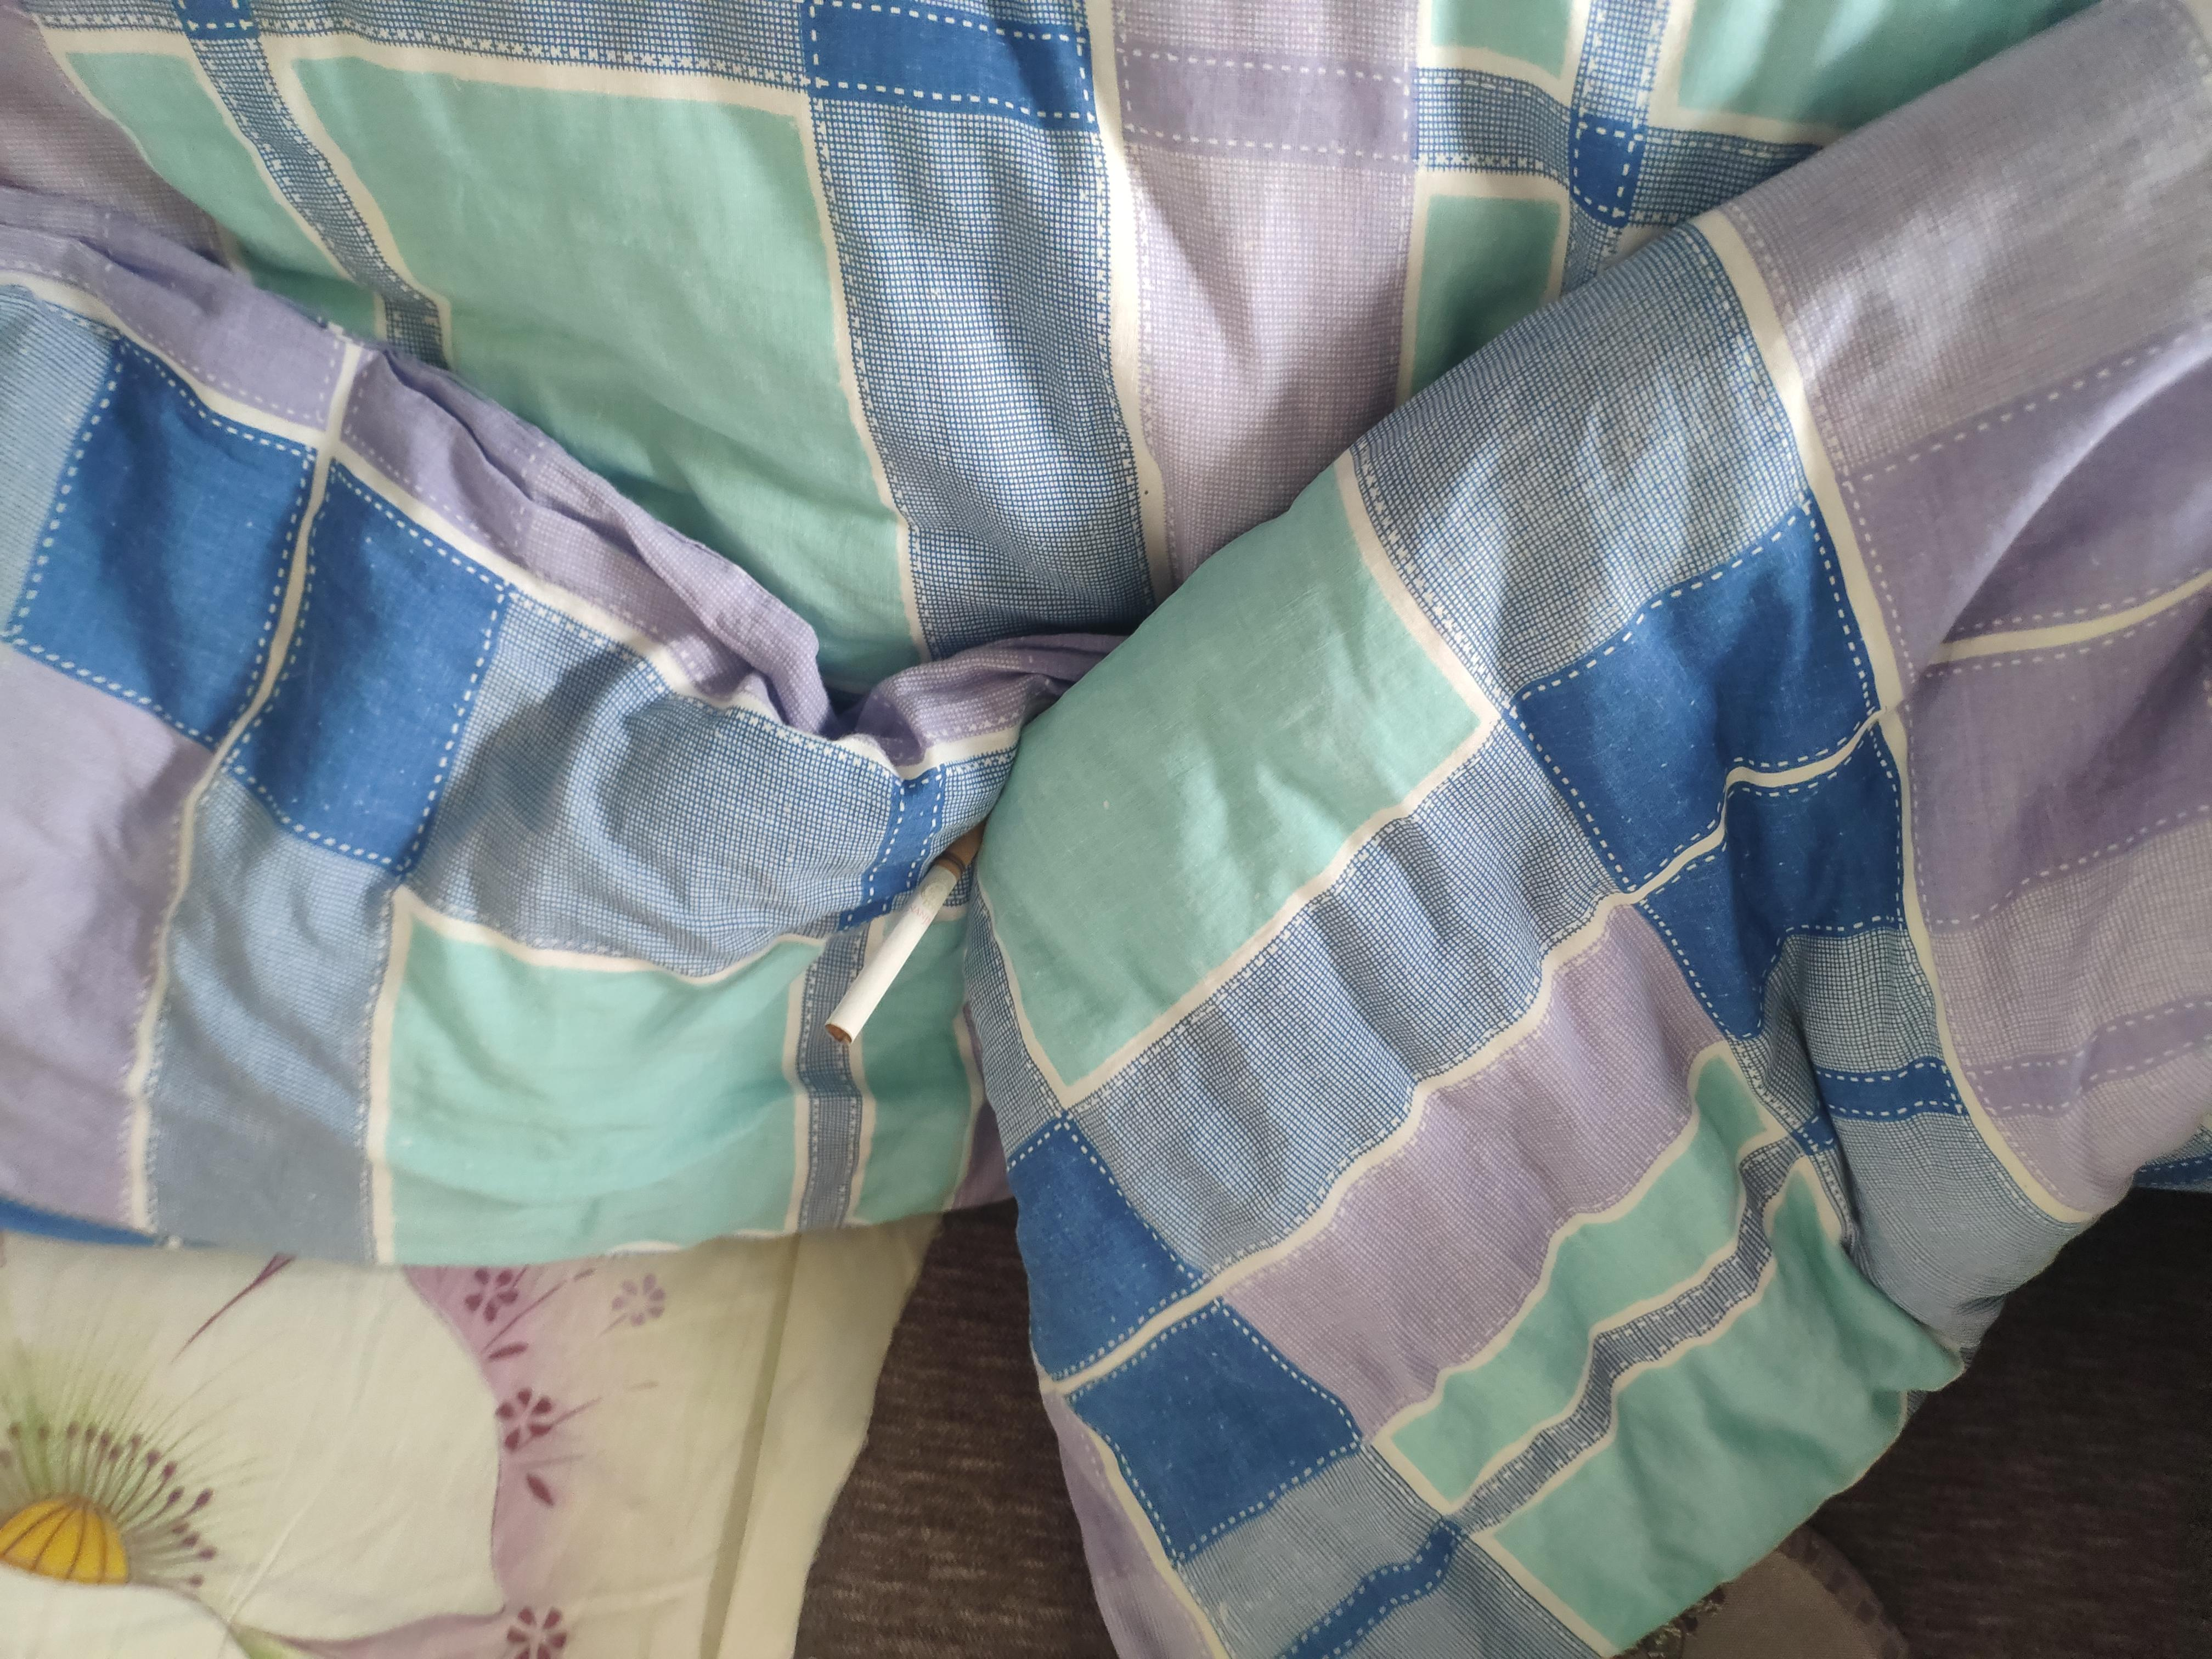smoke: (1211, 612, 1392, 859)
